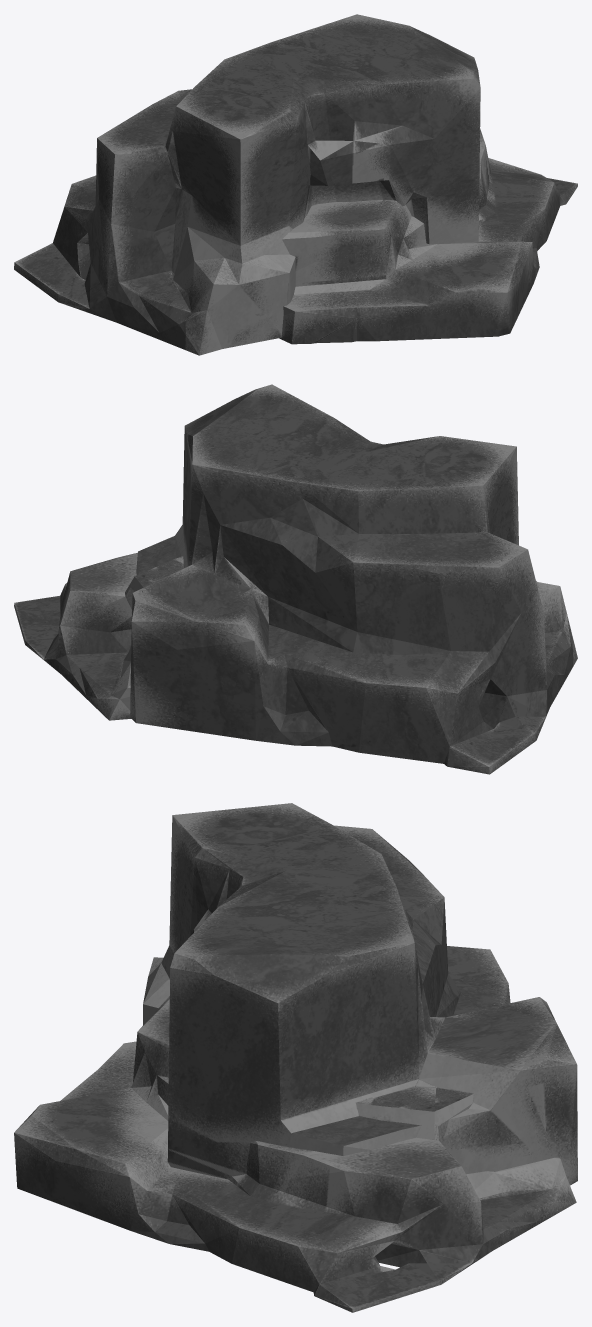
The model's file is ROCK C.fbx.
The picture shows the model from 3 angles, top to bottom: view 1: azimuth 30°, elevation 25°; view 2: azimuth 150°, elevation 25°; view 3: azimuth 270°, elevation 25°; orthographic projection. The views are drawn at different scales.
Parts seen in each view (by area): view 1: ROCK C; view 2: ROCK C; view 3: ROCK C.
Part boxes in pixels (x1=…): ROCK C: x1=14, y1=14, x2=577, y2=355; ROCK C: x1=14, y1=384, x2=577, y2=774; ROCK C: x1=14, y1=803, x2=577, y2=1312.
Bounding box in the file's own units: 2.38 × 0.9114 × 1.83.
